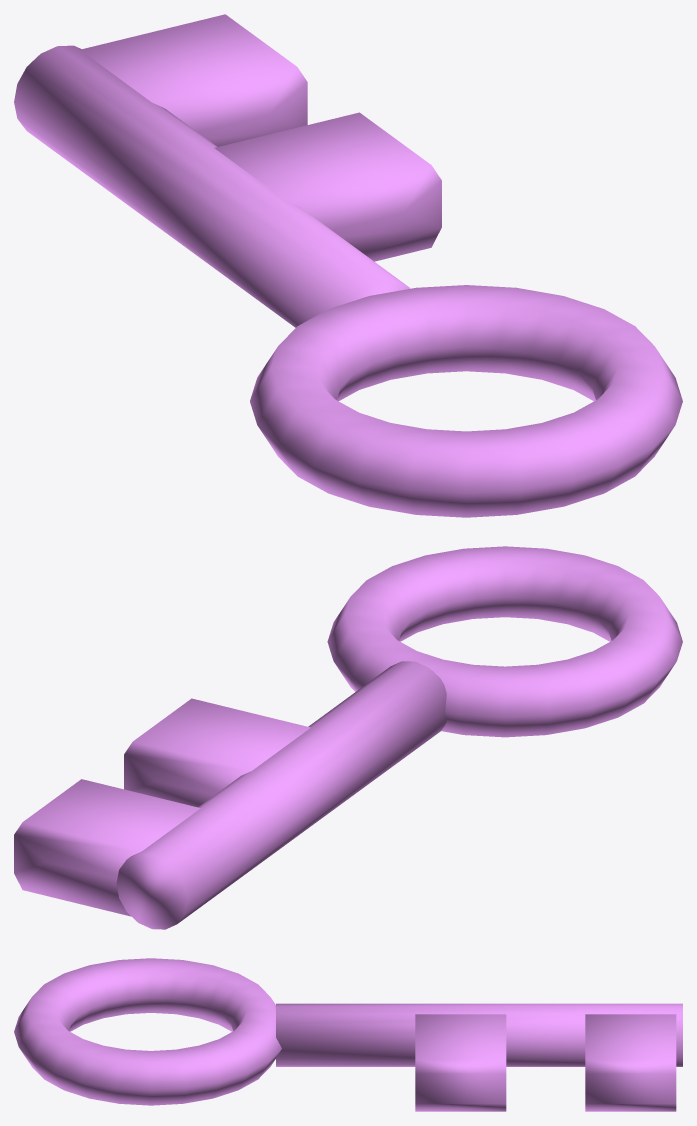
File: Llave Morada.fbx
3 views of the same model, one above another, from view 1: azimuth 30°, elevation 25°; view 2: azimuth 150°, elevation 25°; view 3: azimuth 270°, elevation 25° (orthographic). The views are drawn at different scales.
Visible parts, largest first — view 1: Cube.048; view 2: Cube.048; view 3: Cube.048.
Part boxes in pixels (left/top/right/bottom): Cube.048: left=14, top=14, right=682, bottom=517; Cube.048: left=14, top=546, right=682, bottom=929; Cube.048: left=14, top=958, right=682, bottom=1111.
Bounding box in the file's own units: 17 × 3.93 × 41.46.
